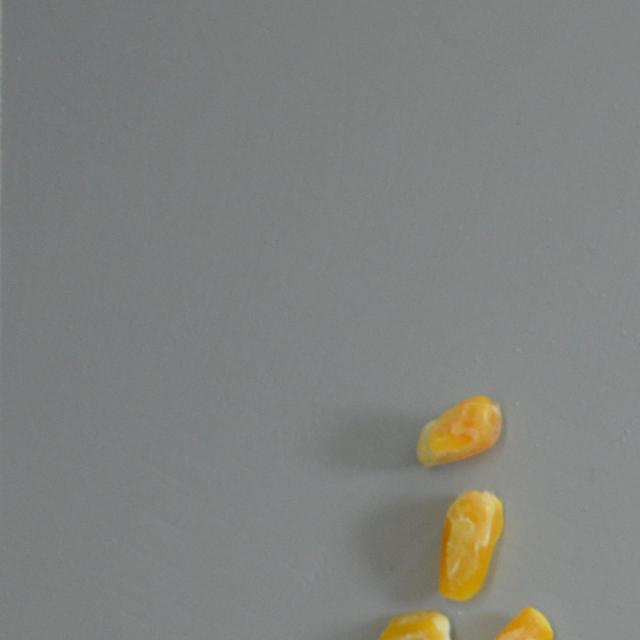dañado: (434, 485, 506, 604), (412, 392, 508, 472), (456, 604, 556, 640), (359, 608, 467, 640)
